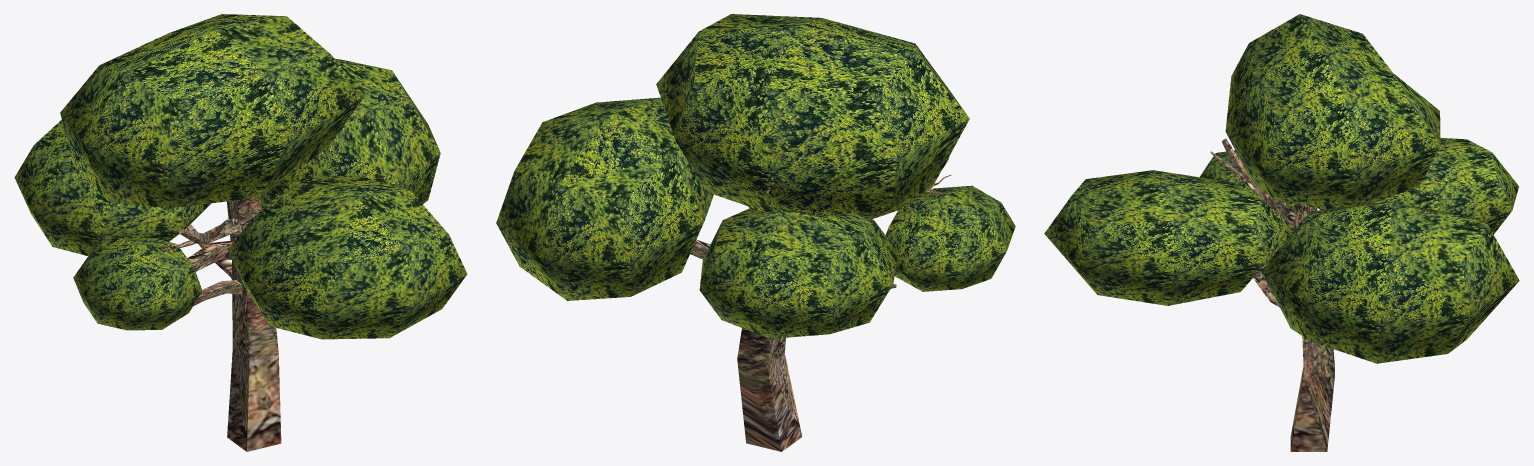
Rendered from tree_model.fbx.
3 renders of one model, left to right at view 1: azimuth 30°, elevation 25°; view 2: azimuth 150°, elevation 25°; view 3: azimuth 270°, elevation 25°, orthographic. The views are drawn at different scales.
Visible parts, largest first — view 1: Tree; view 2: Tree; view 3: Tree.
Part boxes in pixels (x1=…): Tree: x1=14, y1=14, x2=467, y2=451; Tree: x1=496, y1=14, x2=1015, y2=451; Tree: x1=1044, y1=14, x2=1519, y2=451.
Bounding box in the file's own units: 496 × 479 × 544.
1 material, 1 textured.
